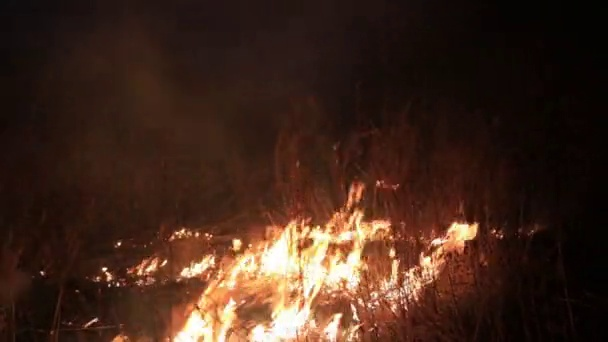fire: (176, 217, 388, 342), (377, 220, 477, 308)
